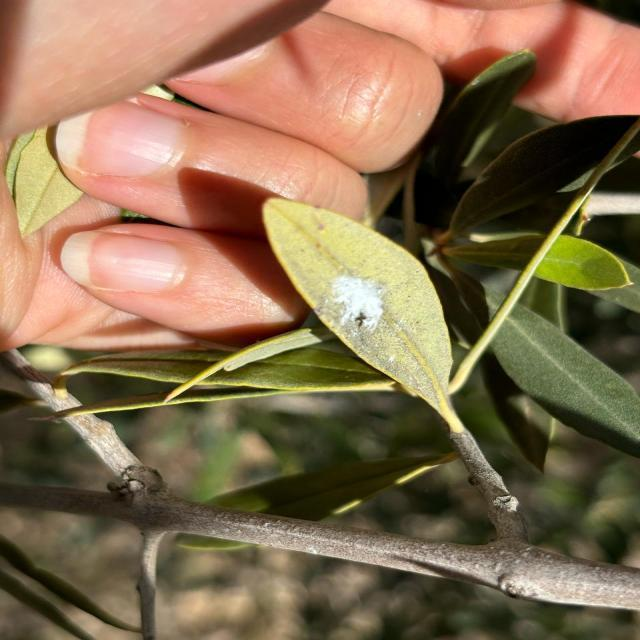Psyllid: (263, 199, 452, 407)
